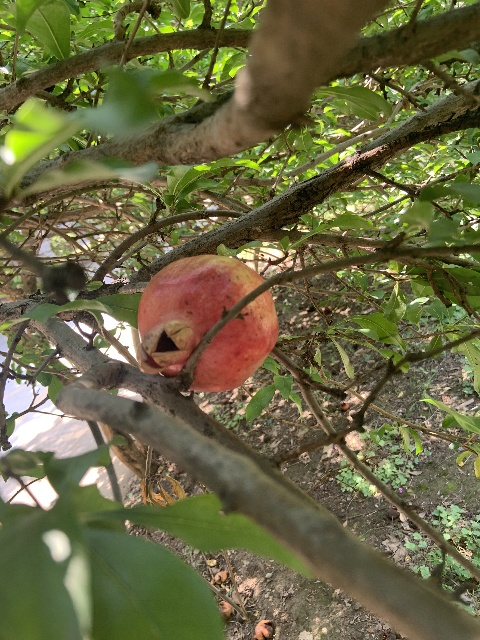ripe: (136, 253, 278, 392)
